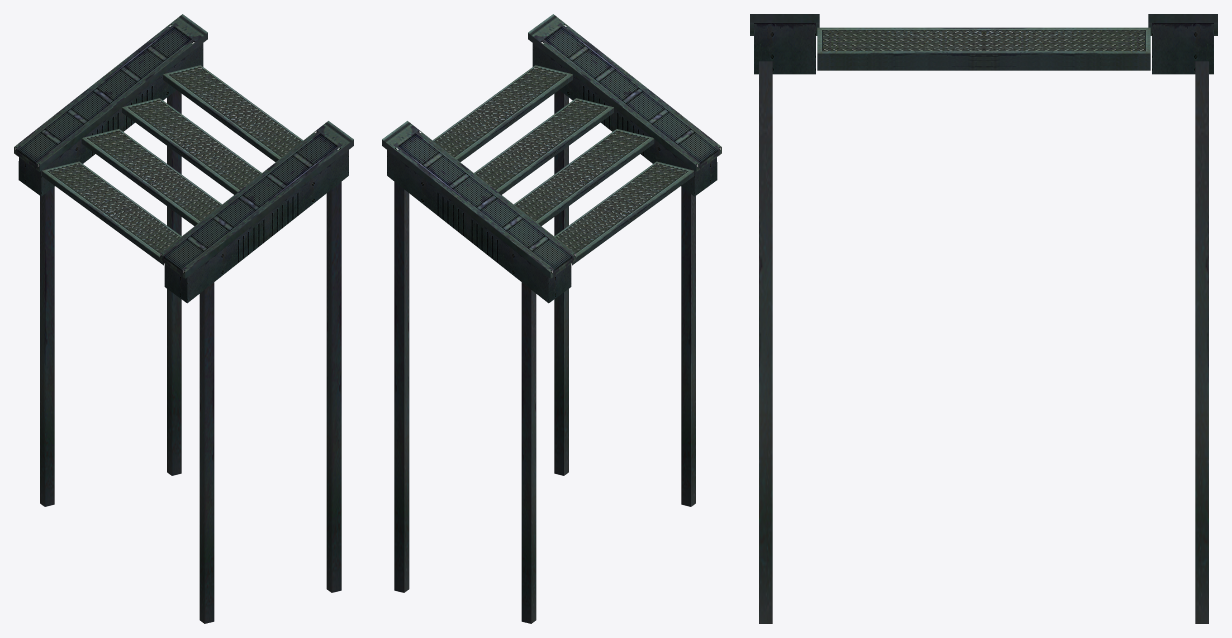
The model's file is yw_museyulin_louti01.FBX.
The picture shows the model from 3 angles, left to right: view 1: azimuth 30°, elevation 25°; view 2: azimuth 150°, elevation 25°; view 3: azimuth 270°, elevation 25°; orthographic projection. The views are drawn at different scales.
Visible parts, largest first — view 1: yw_museyulin_louti01; view 2: yw_museyulin_louti01; view 3: yw_museyulin_louti01.
Boxes of the visible parts, x1,y1,x2,y2 form: yw_museyulin_louti01: (14, 14, 353, 623); yw_museyulin_louti01: (382, 14, 721, 623); yw_museyulin_louti01: (750, 14, 1217, 623).
Size of the model in its own units: 364 by 932 by 641.
